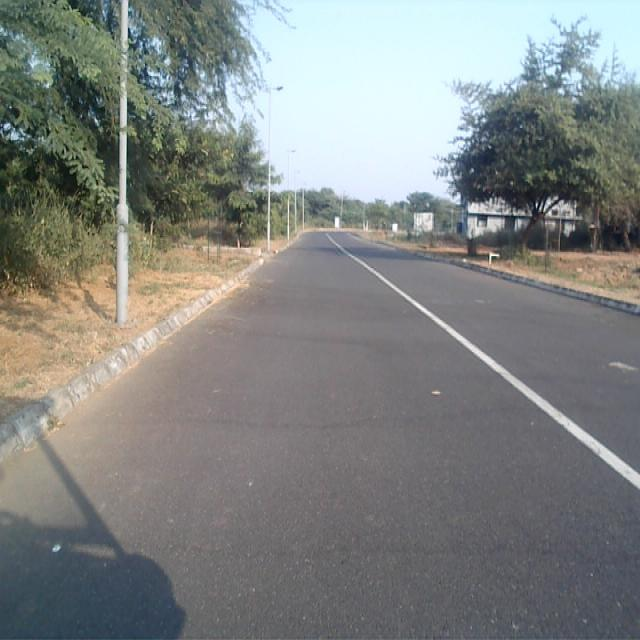lane: (0, 233, 640, 640)
